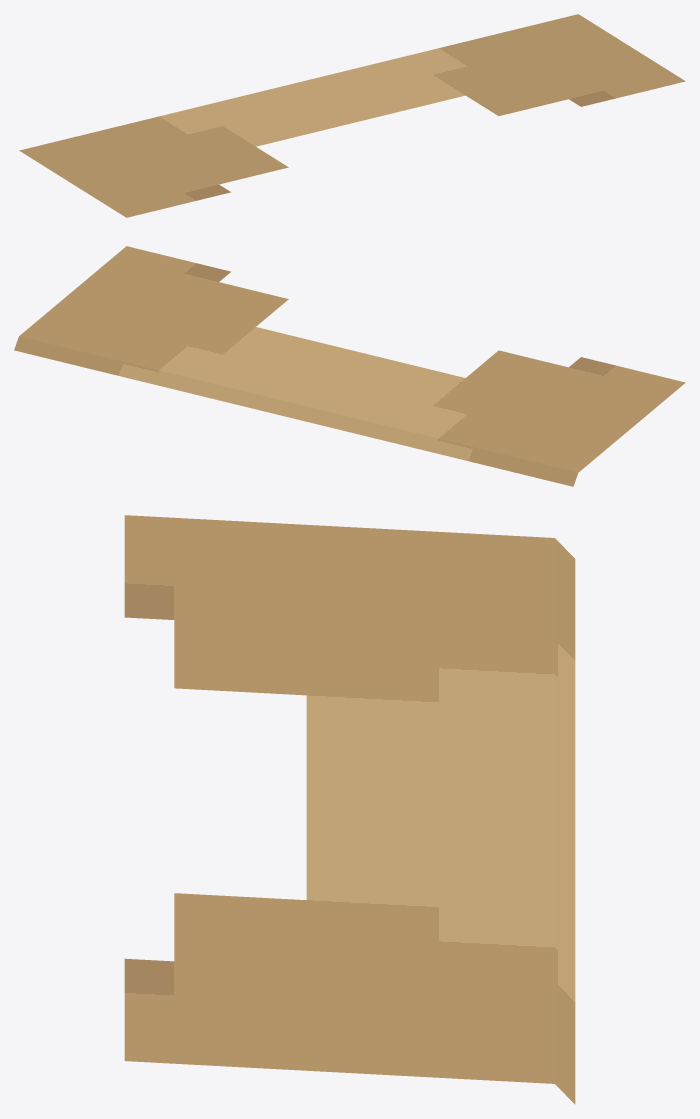
3 renders of one model, top to bottom at view 1: azimuth 30°, elevation 25°; view 2: azimuth 150°, elevation 25°; view 3: azimuth 270°, elevation 25°, orthographic. The views are drawn at different scales.
Size of the model in its own units: 1 by 0.0373 by 0.3486.
1 material, 1 textured.
